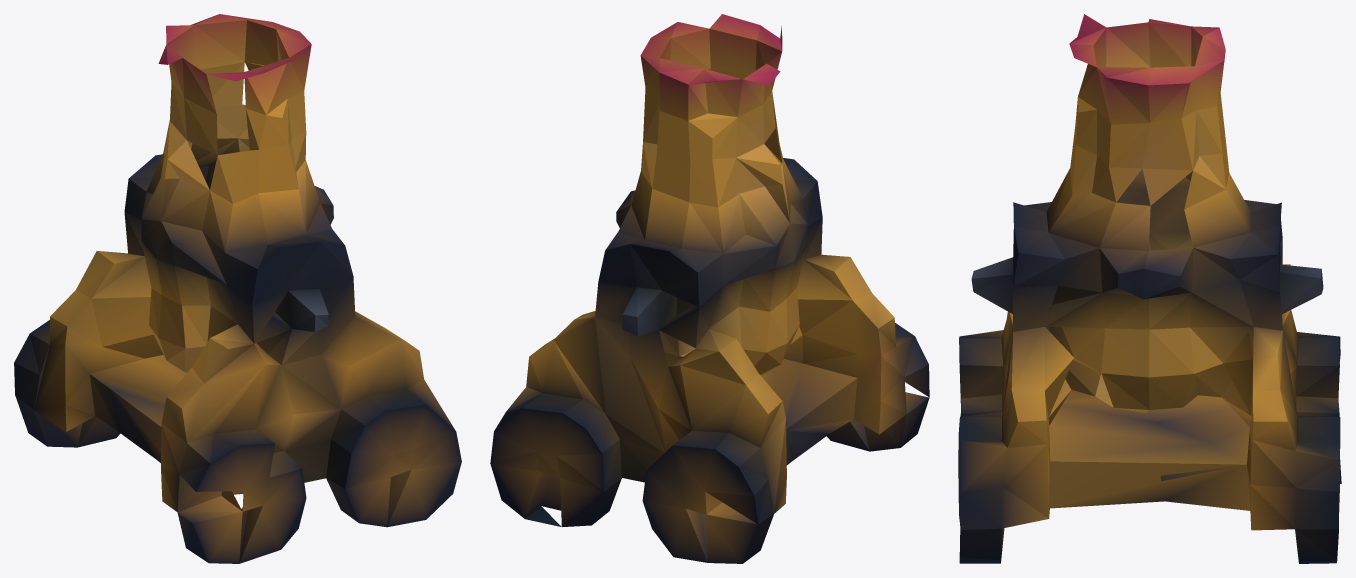
Rendered from m-zumba-canon.glb.
3 views of the same model, side by side, from view 1: azimuth 30°, elevation 25°; view 2: azimuth 150°, elevation 25°; view 3: azimuth 270°, elevation 25° (orthographic). The views are drawn at different scales.
Size of the model in its own units: 1.16 by 1.85 by 1.35.
